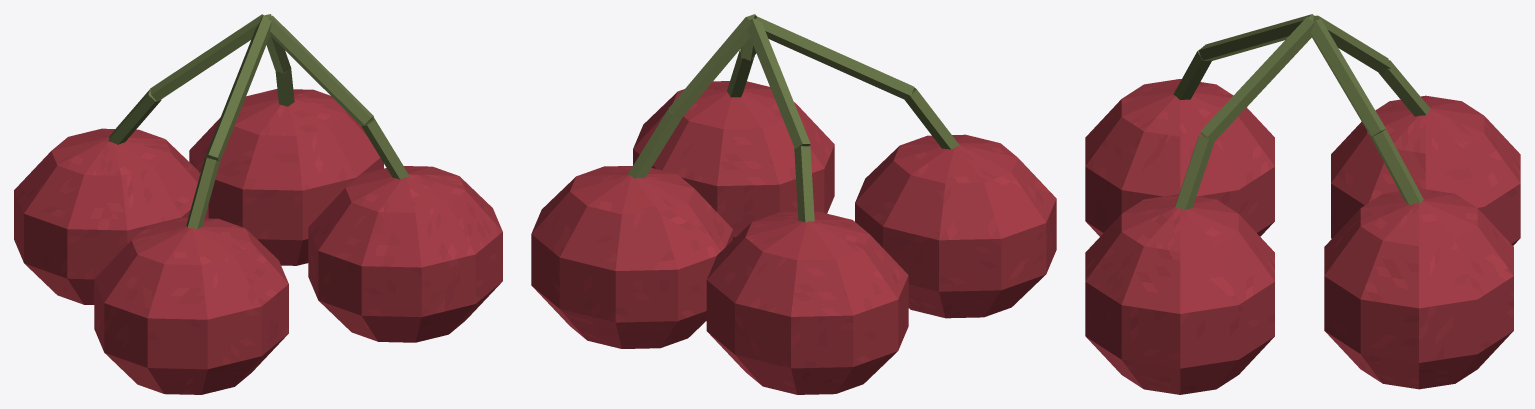
Rendered from cherries.glb.
3 views of the same model, side by side, from view 1: azimuth 30°, elevation 25°; view 2: azimuth 150°, elevation 25°; view 3: azimuth 270°, elevation 25° (orthographic). The views are drawn at different scales.
Visible parts, largest first — view 1: block_ripe red cherry (×4), block_slender bent cherry stem 1 (×4), block_slender bent cherry stem 0 (×4); view 2: block_ripe red cherry (×4), block_slender bent cherry stem 1 (×3), block_slender bent cherry stem 0 (×4); view 3: block_ripe red cherry (×4), block_slender bent cherry stem 1 (×4), block_slender bent cherry stem 0 (×4).
Part boxes in pixels (<box>): block_ripe red cherry (×4): <box>14,89,502,394</box>; block_slender bent cherry stem 1 (×4): <box>150,14,373,161</box>; block_slender bent cherry stem 0 (×4): <box>108,66,409,229</box>; block_ripe red cherry (×4): <box>531,81,1056,394</box>; block_slender bent cherry stem 1 (×3): <box>668,15,913,149</box>; block_slender bent cherry stem 0 (×4): <box>627,49,959,222</box>; block_ripe red cherry (×4): <box>1085,79,1520,394</box>; block_slender bent cherry stem 1 (×4): <box>1198,14,1390,142</box>; block_slender bent cherry stem 0 (×4): <box>1173,49,1430,210</box>.
Size of the model in its own units: 0.083 by 0.0601 by 0.0731.
1 material, 1 textured.
